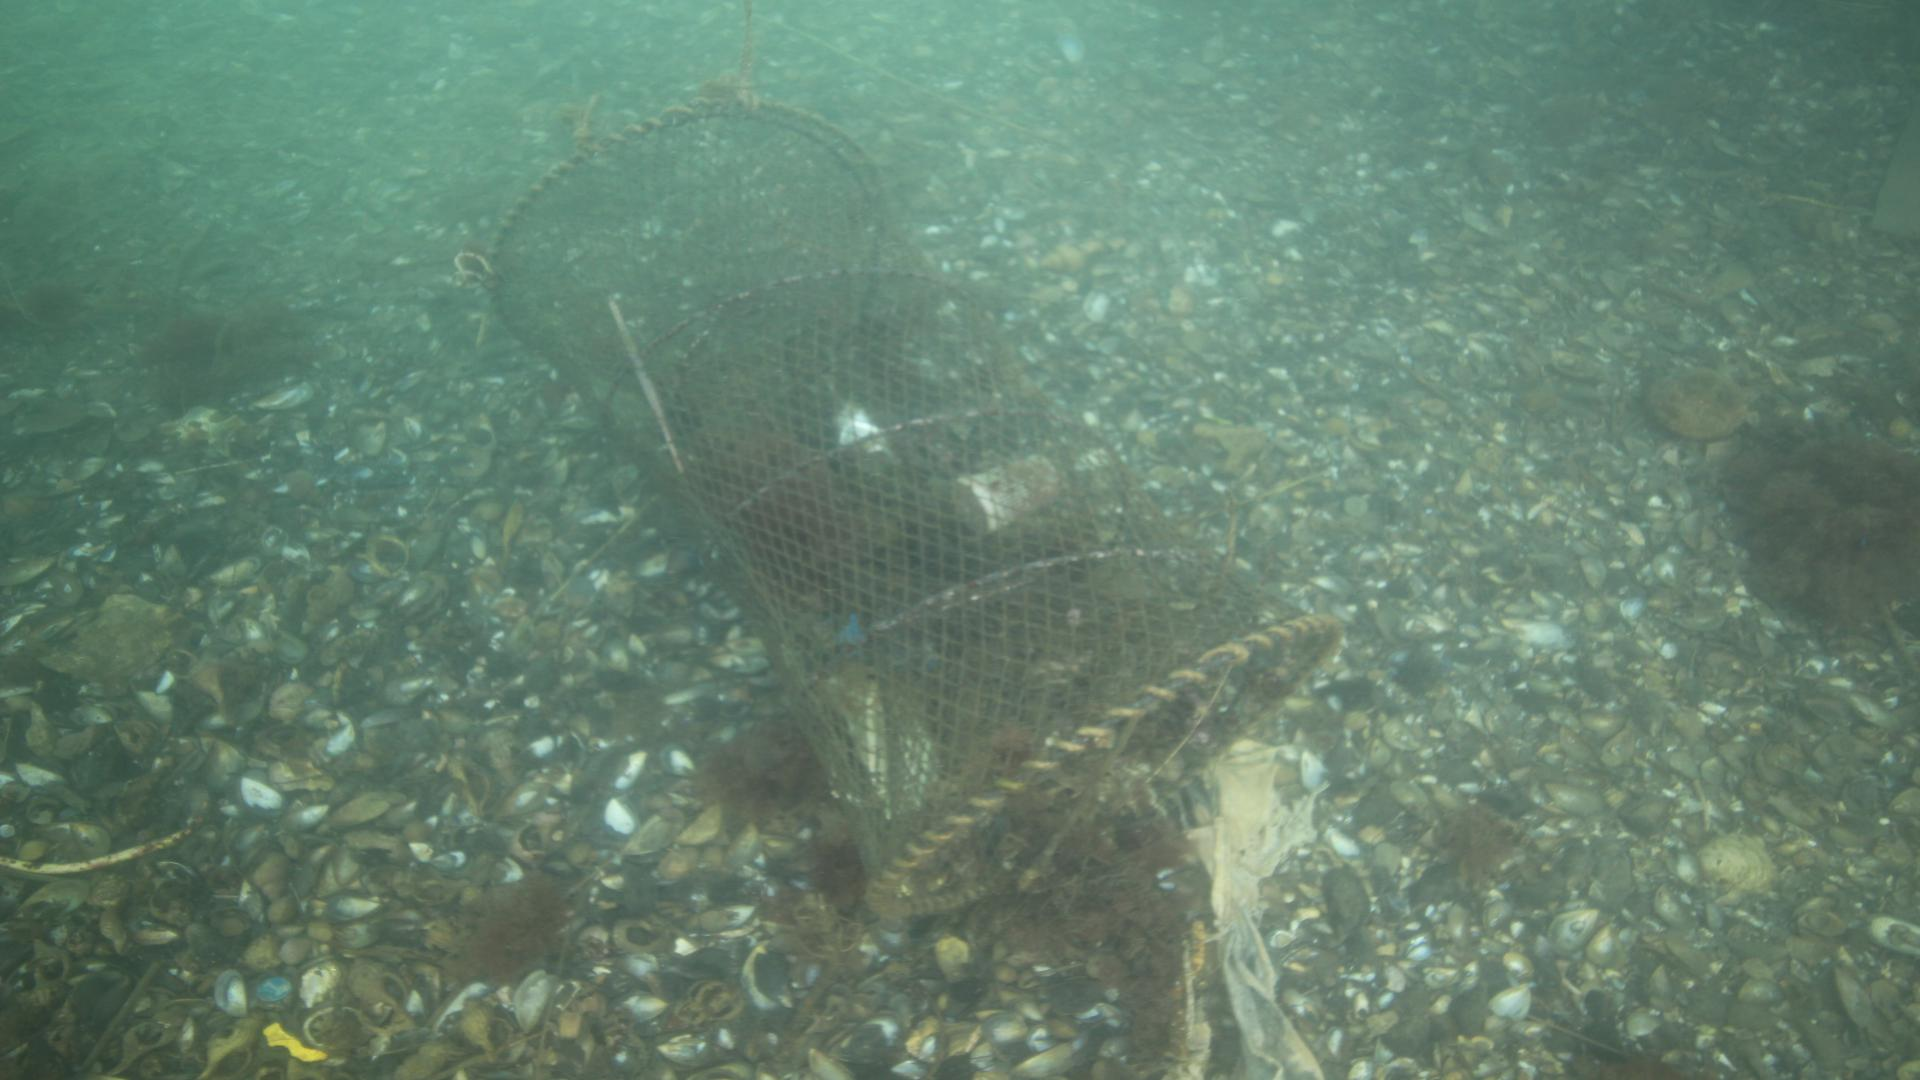rope: (724, 0, 767, 102)
spring fish trap: (480, 94, 1346, 918)
